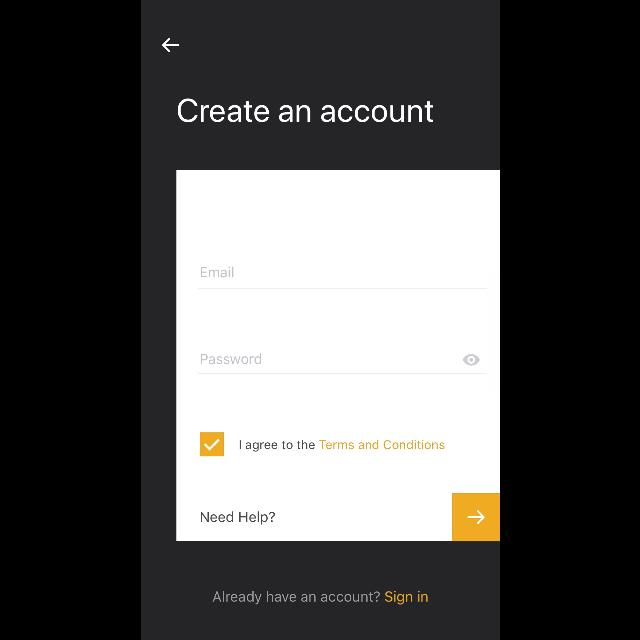checkbox: (200, 432, 222, 456)
icon: (452, 494, 500, 540), (162, 38, 178, 52), (462, 354, 480, 366)
input: (198, 266, 487, 290), (197, 354, 487, 374)
text: (177, 99, 433, 123), (212, 591, 428, 605), (240, 440, 444, 452), (200, 511, 274, 525), (200, 354, 260, 364), (200, 266, 233, 278)
